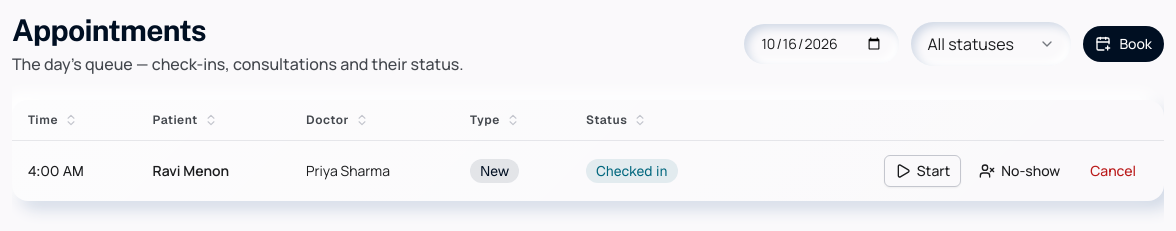
Test case: appointment lifecycle actions › Start posts to /start and the row moves on
Click the button "Start". click: click(923, 171)
box: [884,155,961,187]
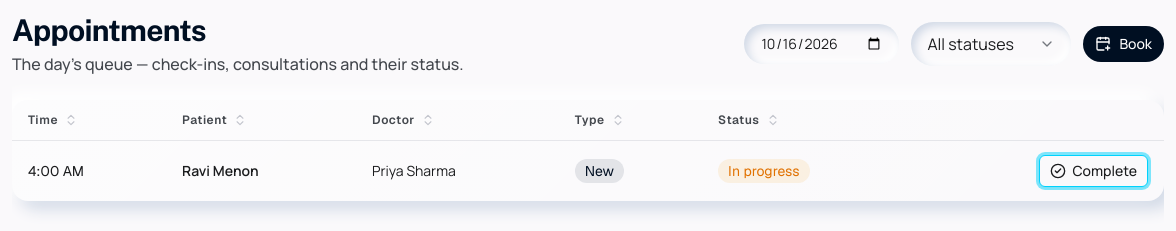
Now the text "In progress" is shown, box [718,159,810,183]
